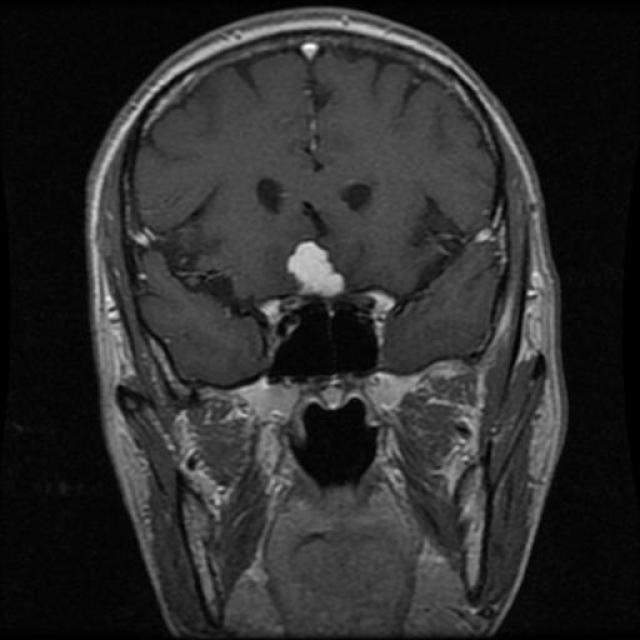Tumor: (285, 244, 356, 298)
